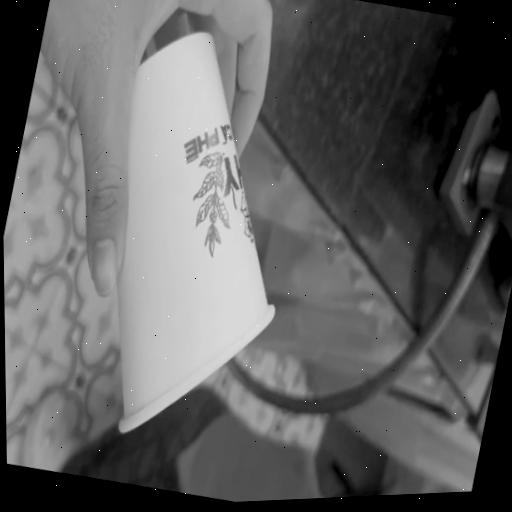Ly_giay: (116, 33, 273, 430)
